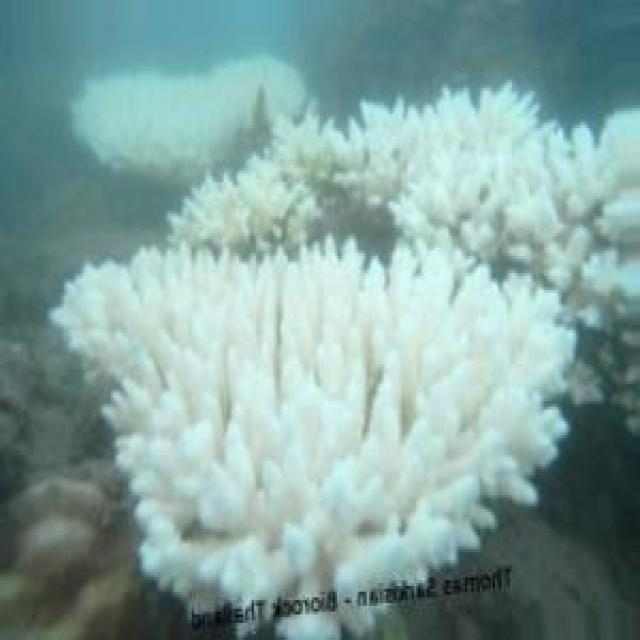bleached coral: (55, 242, 574, 598), (271, 85, 538, 202), (74, 57, 306, 169), (55, 267, 154, 401), (391, 150, 508, 261), (286, 125, 442, 205), (320, 441, 429, 538), (117, 424, 209, 535), (318, 262, 393, 395), (491, 128, 606, 213), (416, 270, 506, 361), (181, 159, 309, 222), (151, 265, 252, 341), (192, 501, 303, 558), (81, 100, 183, 159), (600, 108, 640, 258), (233, 375, 294, 466), (446, 378, 501, 464)
